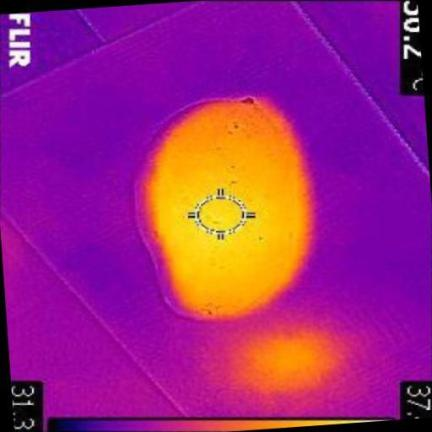mango: (139, 95, 314, 318)
